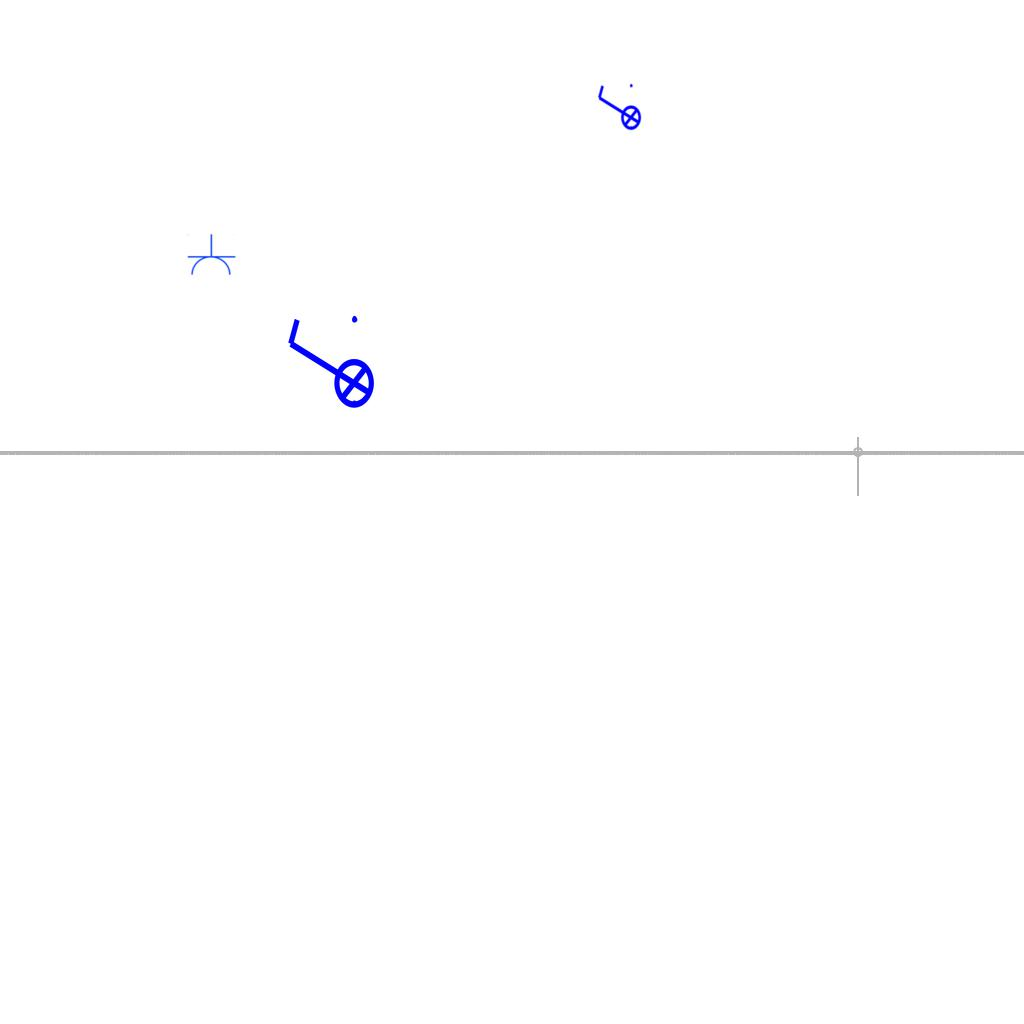Ausschalter_beleuchtet: (280, 310, 376, 422), (594, 81, 642, 137)
Schukosteckdose_einfach: (186, 234, 236, 277)
